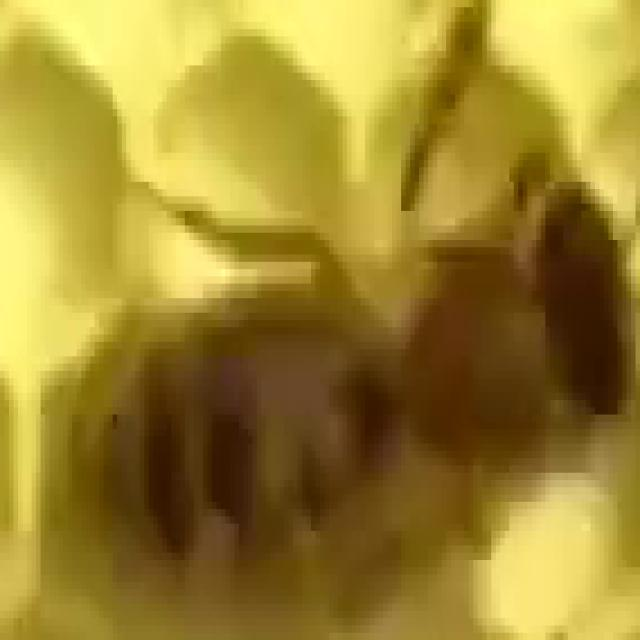honeybee: (61, 134, 621, 558)
